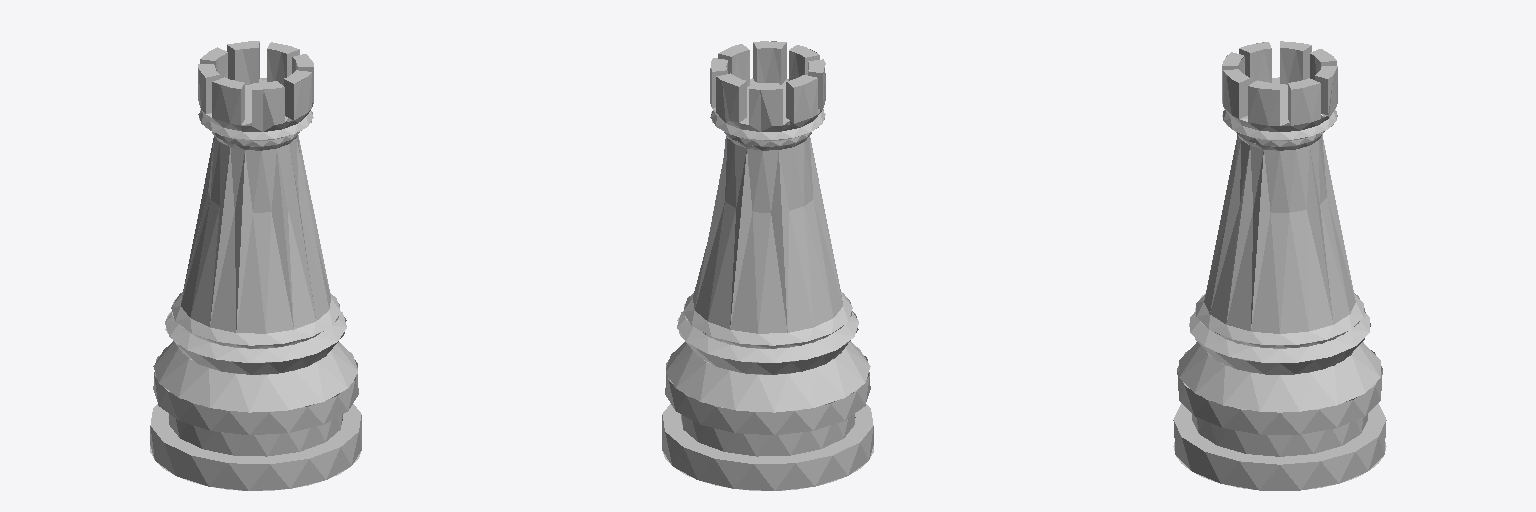
The model's file is rooklow.obj.
3 renders of one model, left to right at view 1: azimuth 30°, elevation 25°; view 2: azimuth 150°, elevation 25°; view 3: azimuth 270°, elevation 25°, orthographic.
Visible parts, largest first — view 1: Circle; view 2: Circle; view 3: Circle.
Boxes of the visible parts, <box> form: Circle: <box>150,41,361,490</box>; Circle: <box>662,41,873,490</box>; Circle: <box>1173,41,1386,490</box>.
Bounding box in the file's own units: 2 × 3.94 × 2.